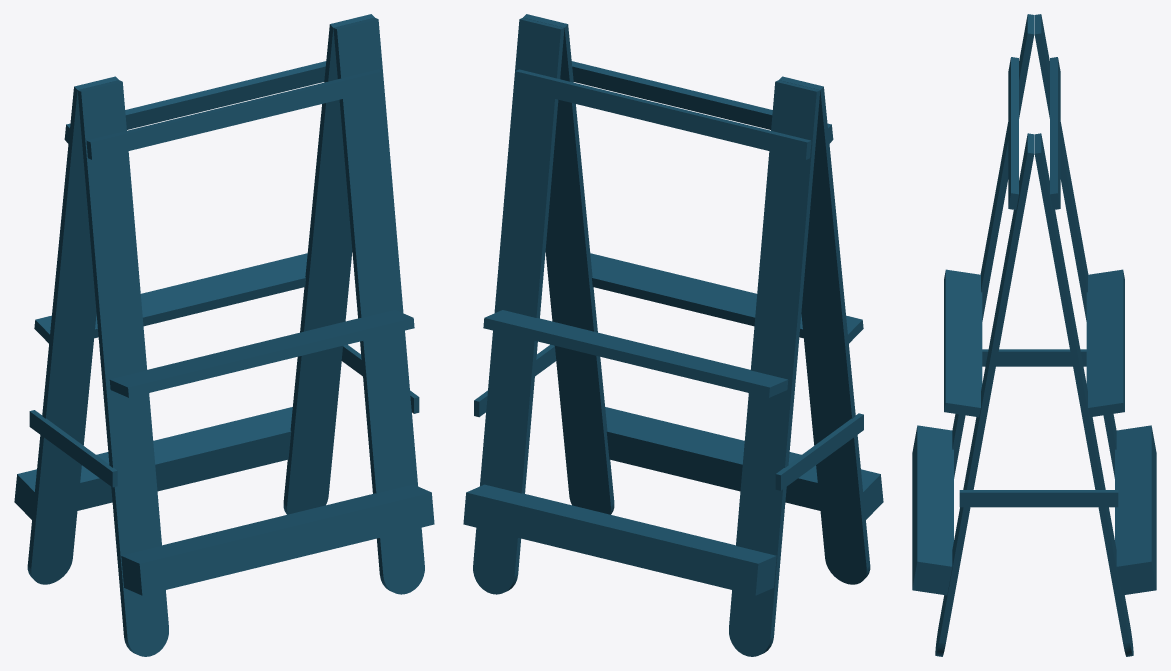
File: pose_tableau.FBX
3 renders of one model, left to right at view 1: azimuth 30°, elevation 25°; view 2: azimuth 150°, elevation 25°; view 3: azimuth 270°, elevation 25°, orthographic. The views are drawn at different scales.
Visible parts, largest first — view 1: pose_tableau; view 2: pose_tableau; view 3: pose_tableau.
Part boxes in pixels (x1,y1,x2,y2): pose_tableau: (14,14,434,656); pose_tableau: (463,14,883,656); pose_tableau: (912,14,1156,656).
Size of the model in its own units: 0.6284 by 1.05 by 0.454.
